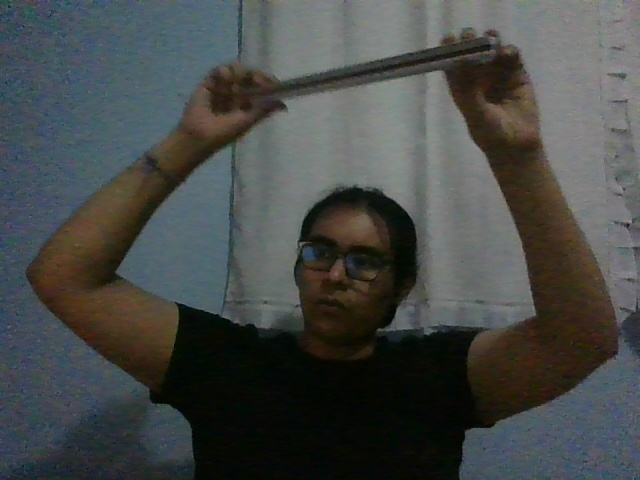regla: (231, 37, 500, 102)
